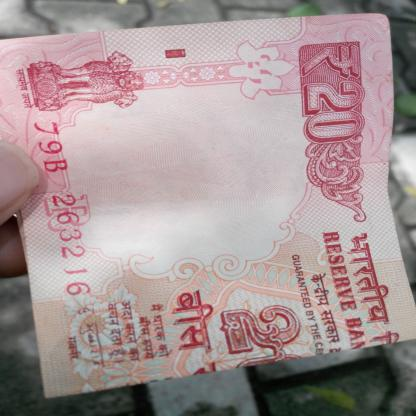Old20Front: (7, 29, 388, 377)
